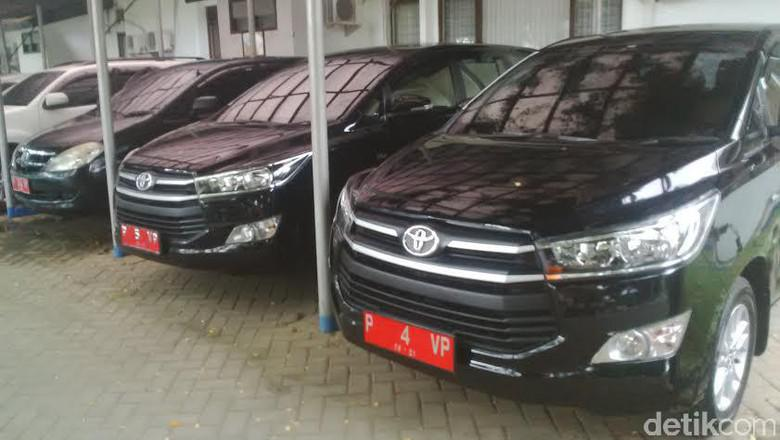plate: (362, 308, 455, 376), (120, 221, 160, 256)
